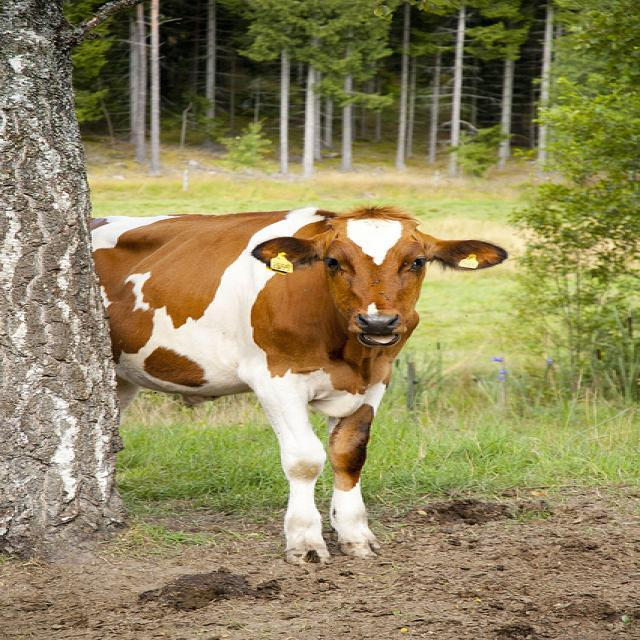cow: (90, 203, 505, 564)
